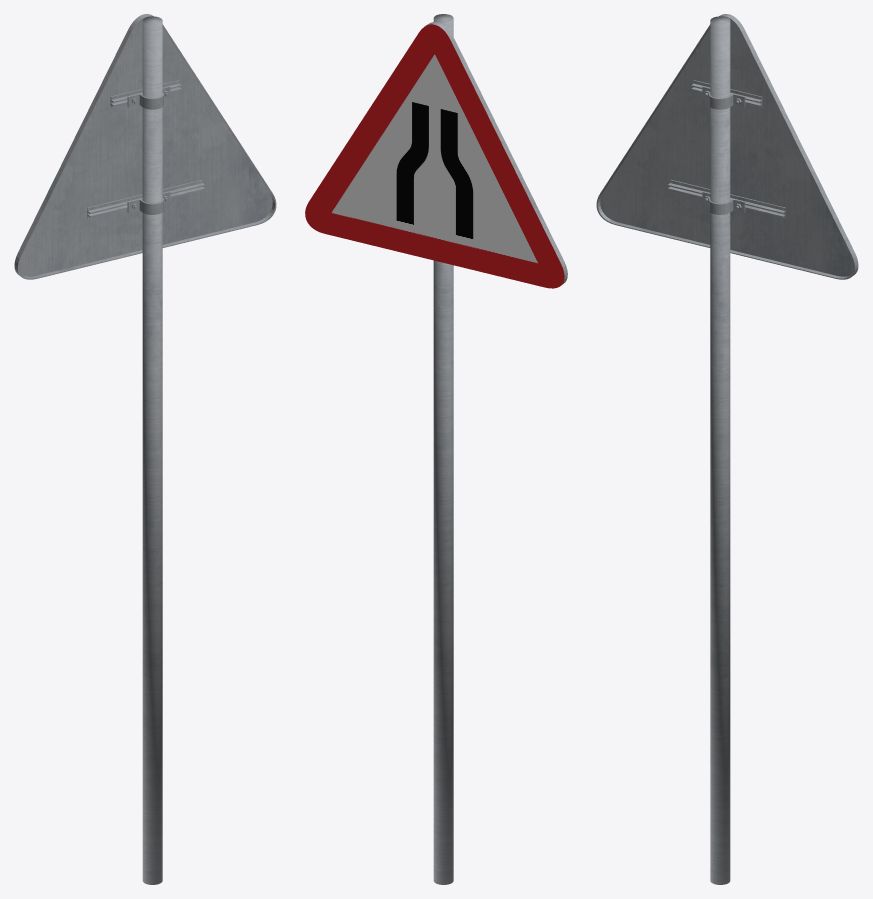
Rendered from Road_narrows_middle.fbx.
The picture shows the model from 3 angles, left to right: view 1: azimuth 30°, elevation 25°; view 2: azimuth 150°, elevation 25°; view 3: azimuth 330°, elevation 25°; orthographic projection.
Visible parts, largest first — view 1: Road narrows middle; view 2: Road narrows middle; view 3: Road narrows middle.
Part boxes in pixels (x1=…): Road narrows middle: x1=14, y1=14, x2=276, y2=884; Road narrows middle: x1=305, y1=14, x2=567, y2=884; Road narrows middle: x1=596, y1=14, x2=858, y2=884.
Bounding box in the file's own units: 0.0876 × 0.9002 × 2.86.
